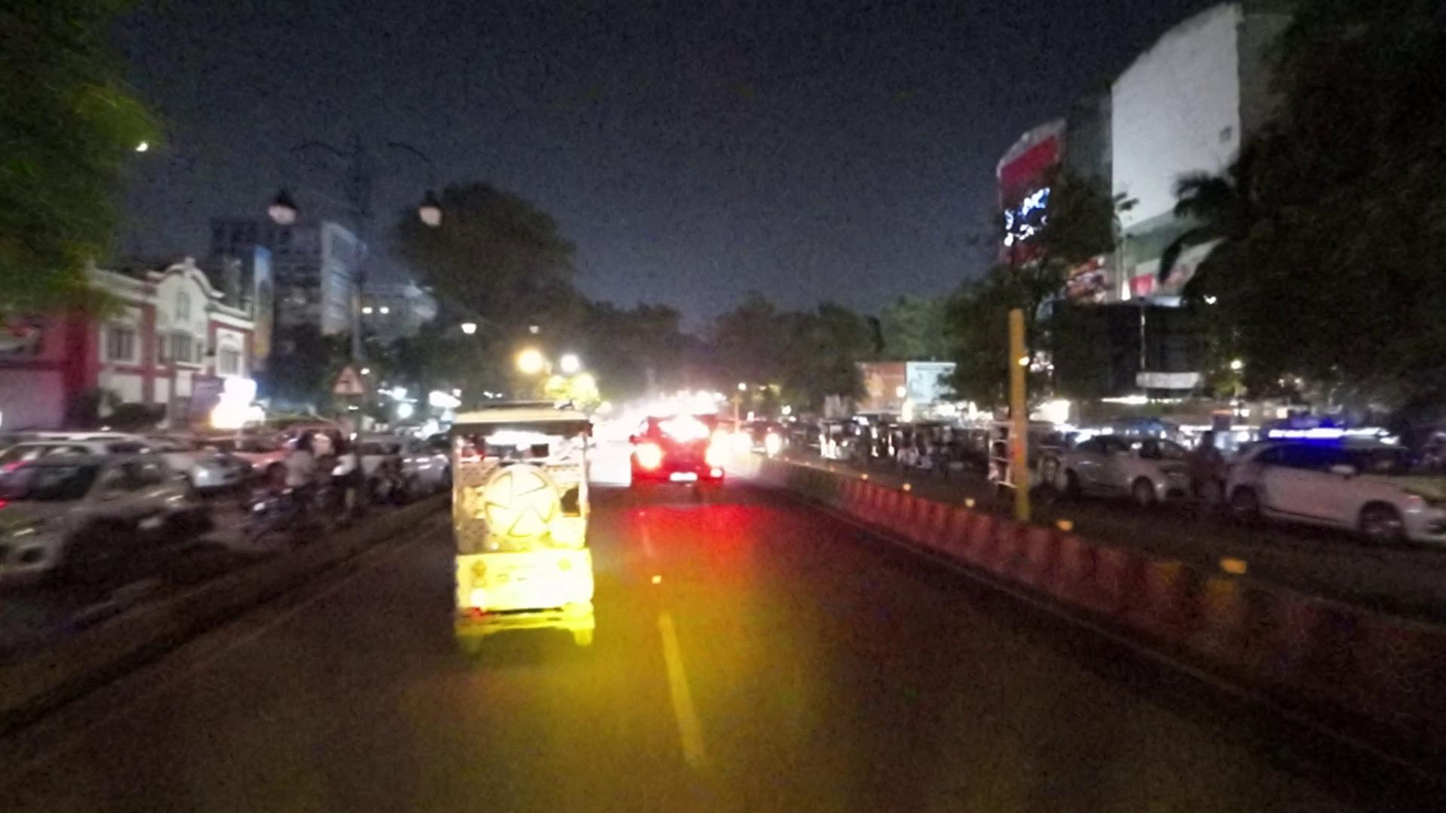streetlight: (412, 174, 458, 242), (267, 178, 304, 248)
